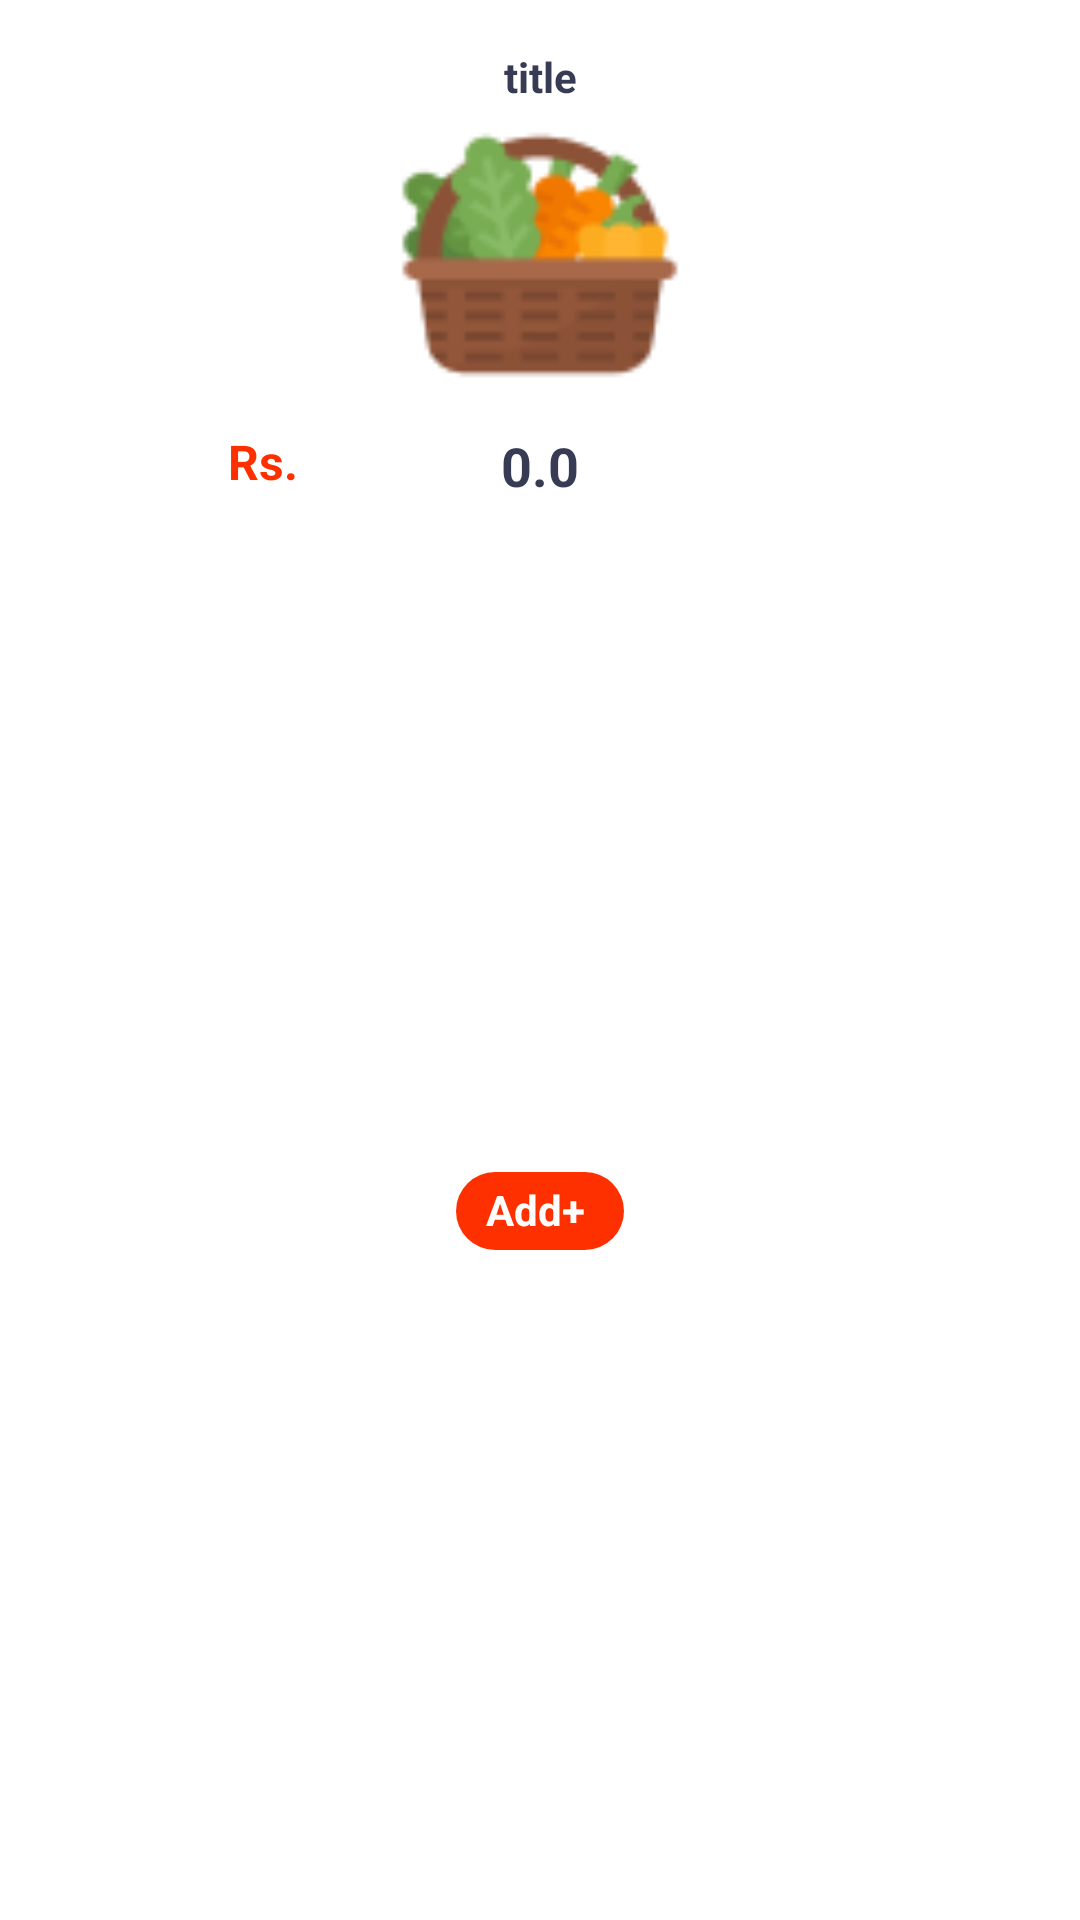

Icons on this 1080×1920 Android screen, each with its box as (x1, y1, x2, y2):
veg: (402, 134, 678, 376)
